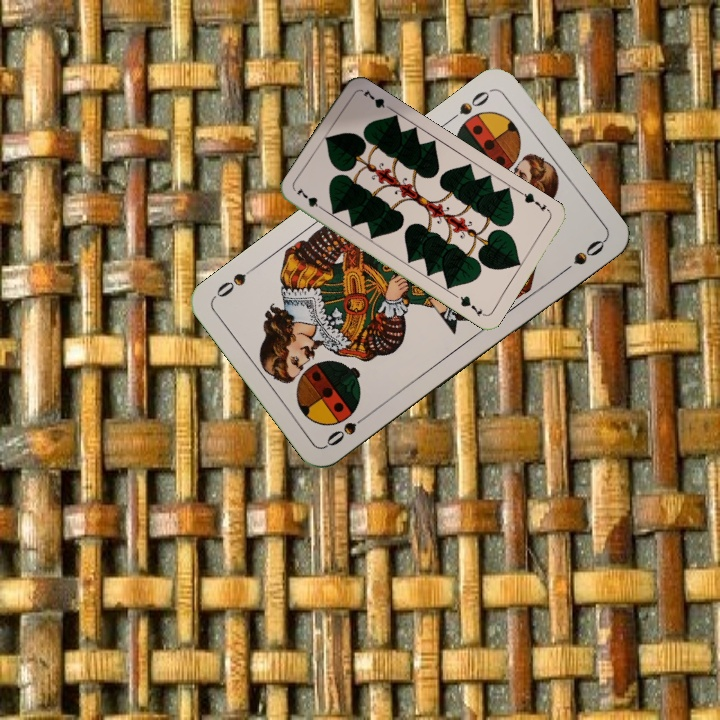G7: (292, 184, 329, 215), (516, 188, 553, 215)
SO: (322, 408, 374, 449), (443, 86, 494, 126)
